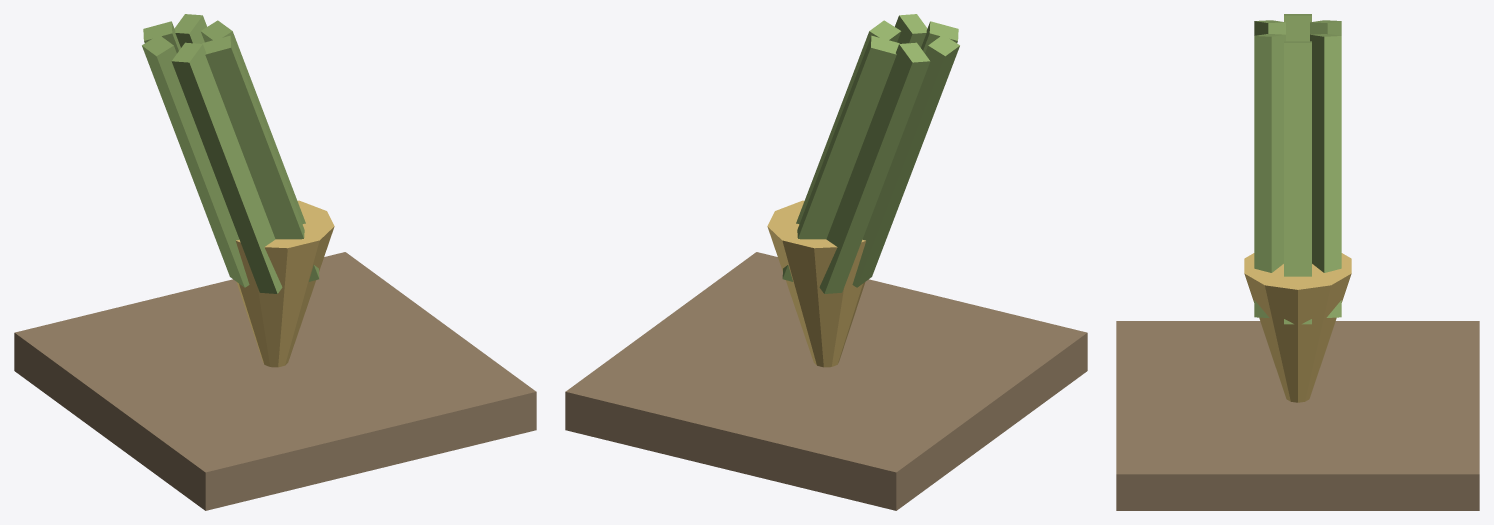
File: cozy-farm-and-homestead-carrot-mature-993ad028__19379.glb
The picture shows the model from 3 angles, left to right: view 1: azimuth 30°, elevation 25°; view 2: azimuth 150°, elevation 25°; view 3: azimuth 270°, elevation 25°; orthographic projection. The views are drawn at different scales.
Visible parts, largest first — view 1: carrot-mature; view 2: carrot-mature; view 3: carrot-mature.
Part boxes in pixels (bbox=[...]): carrot-mature: bbox=[14, 14, 536, 510]; carrot-mature: bbox=[565, 14, 1087, 510]; carrot-mature: bbox=[1116, 14, 1479, 510].
Size of the model in its own units: 0.45 by 0.5061 by 0.45.
